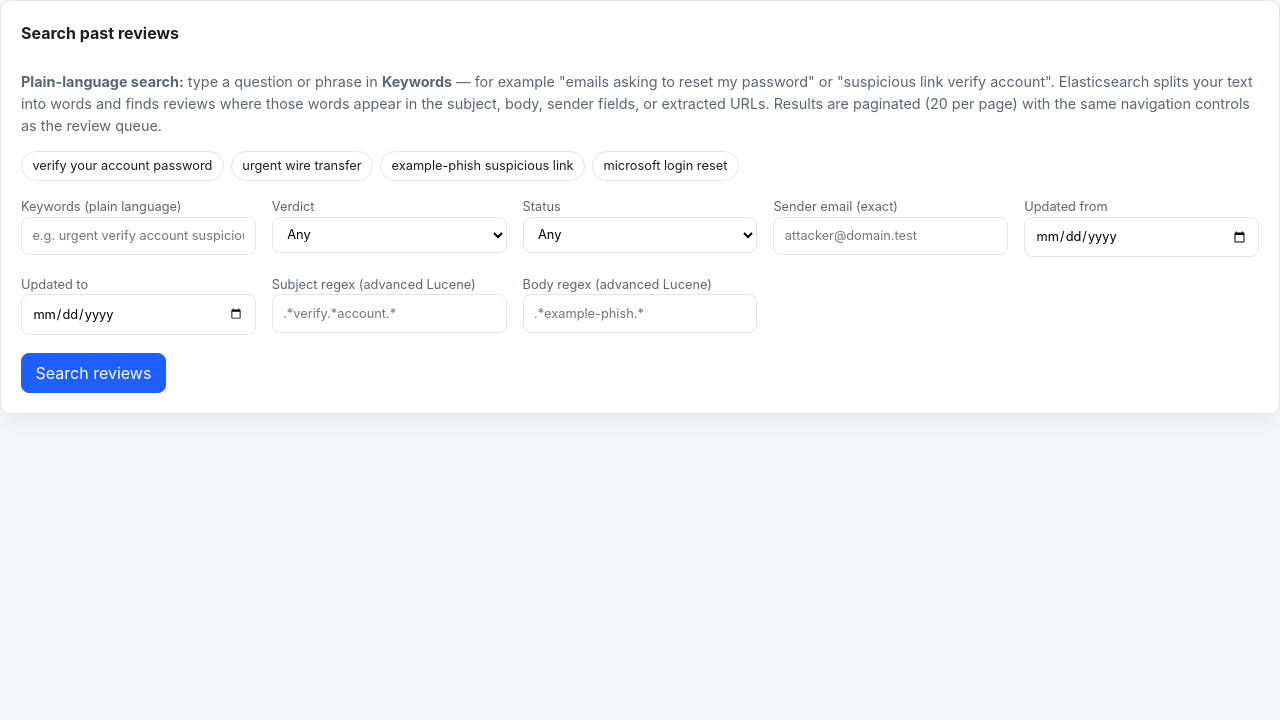
Test case: ReviewSearchPanel pagination › enables Next when ES reports gte total cap (10,000+) and full first page
Step 1. Click the button "Search reviews" → (94, 373), box [21,352,166,393]
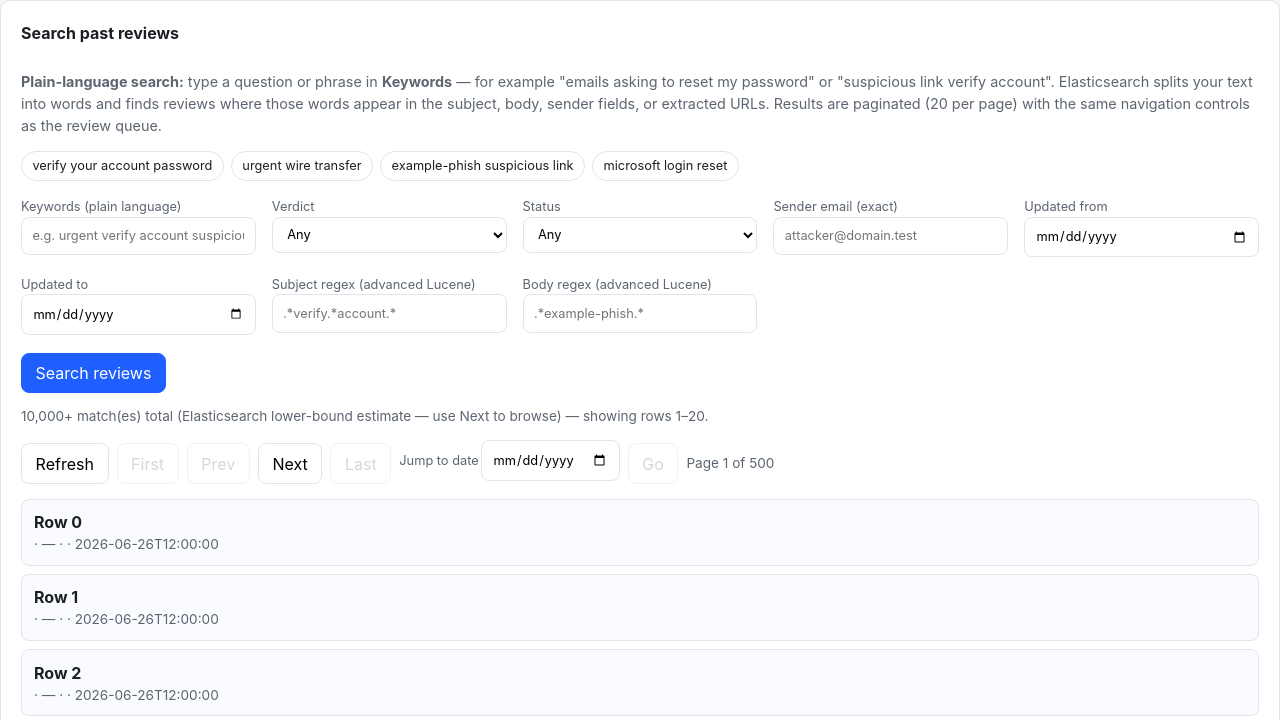
Expected: the text "10,000+ match" is shown, [21,408,708,424]
Expected: the button "Next" is enabled, [258,444,322,484]
Expected: the button "Last" is disabled, [330,444,391,484]
